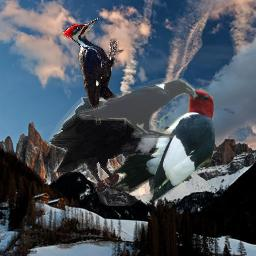Crow: (49, 97, 167, 206), (77, 78, 195, 138)
Woodpecker: (110, 82, 215, 202), (61, 17, 131, 125)
